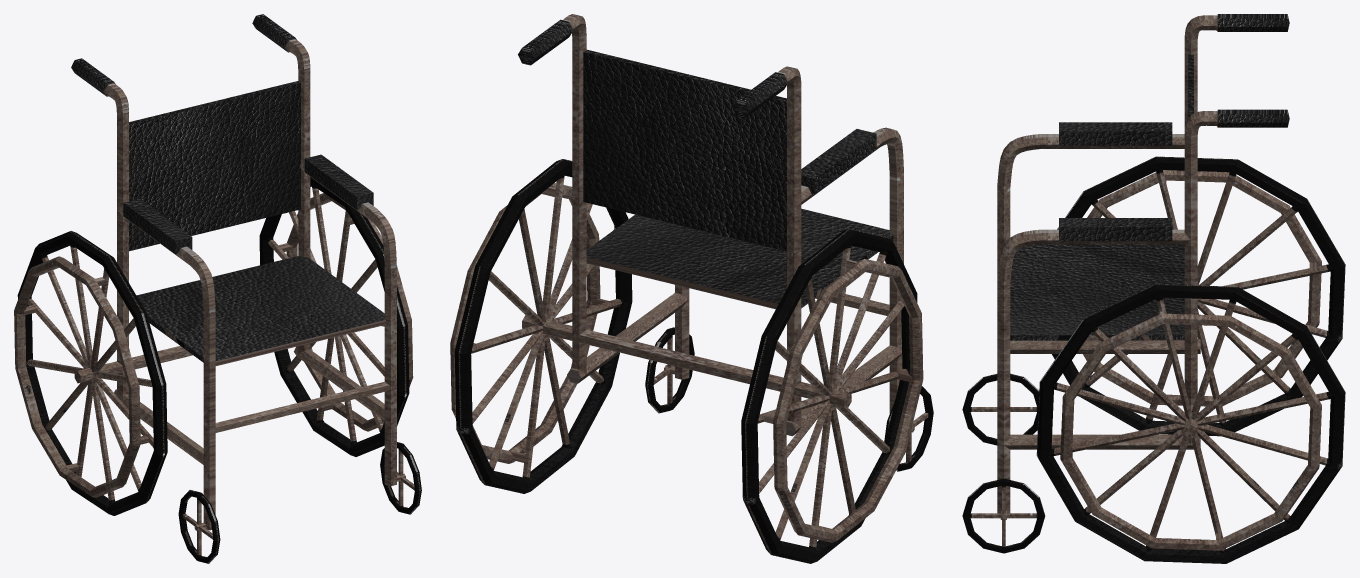
3 views of the same model, side by side, from view 1: azimuth 30°, elevation 25°; view 2: azimuth 150°, elevation 25°; view 3: azimuth 270°, elevation 25° (orthographic). The views are drawn at different scales.
Parts seen in each view (by area): view 1: Object_2; view 2: Object_2; view 3: Object_2.
Part boxes in pixels (x1,y1,x2,y2): Object_2: (14, 14, 421, 563); Object_2: (450, 14, 933, 563); Object_2: (962, 14, 1345, 563).
Size of the model in its own units: 4.65 by 6.39 by 5.08.
Materials: 1 (1 with a texture image).
